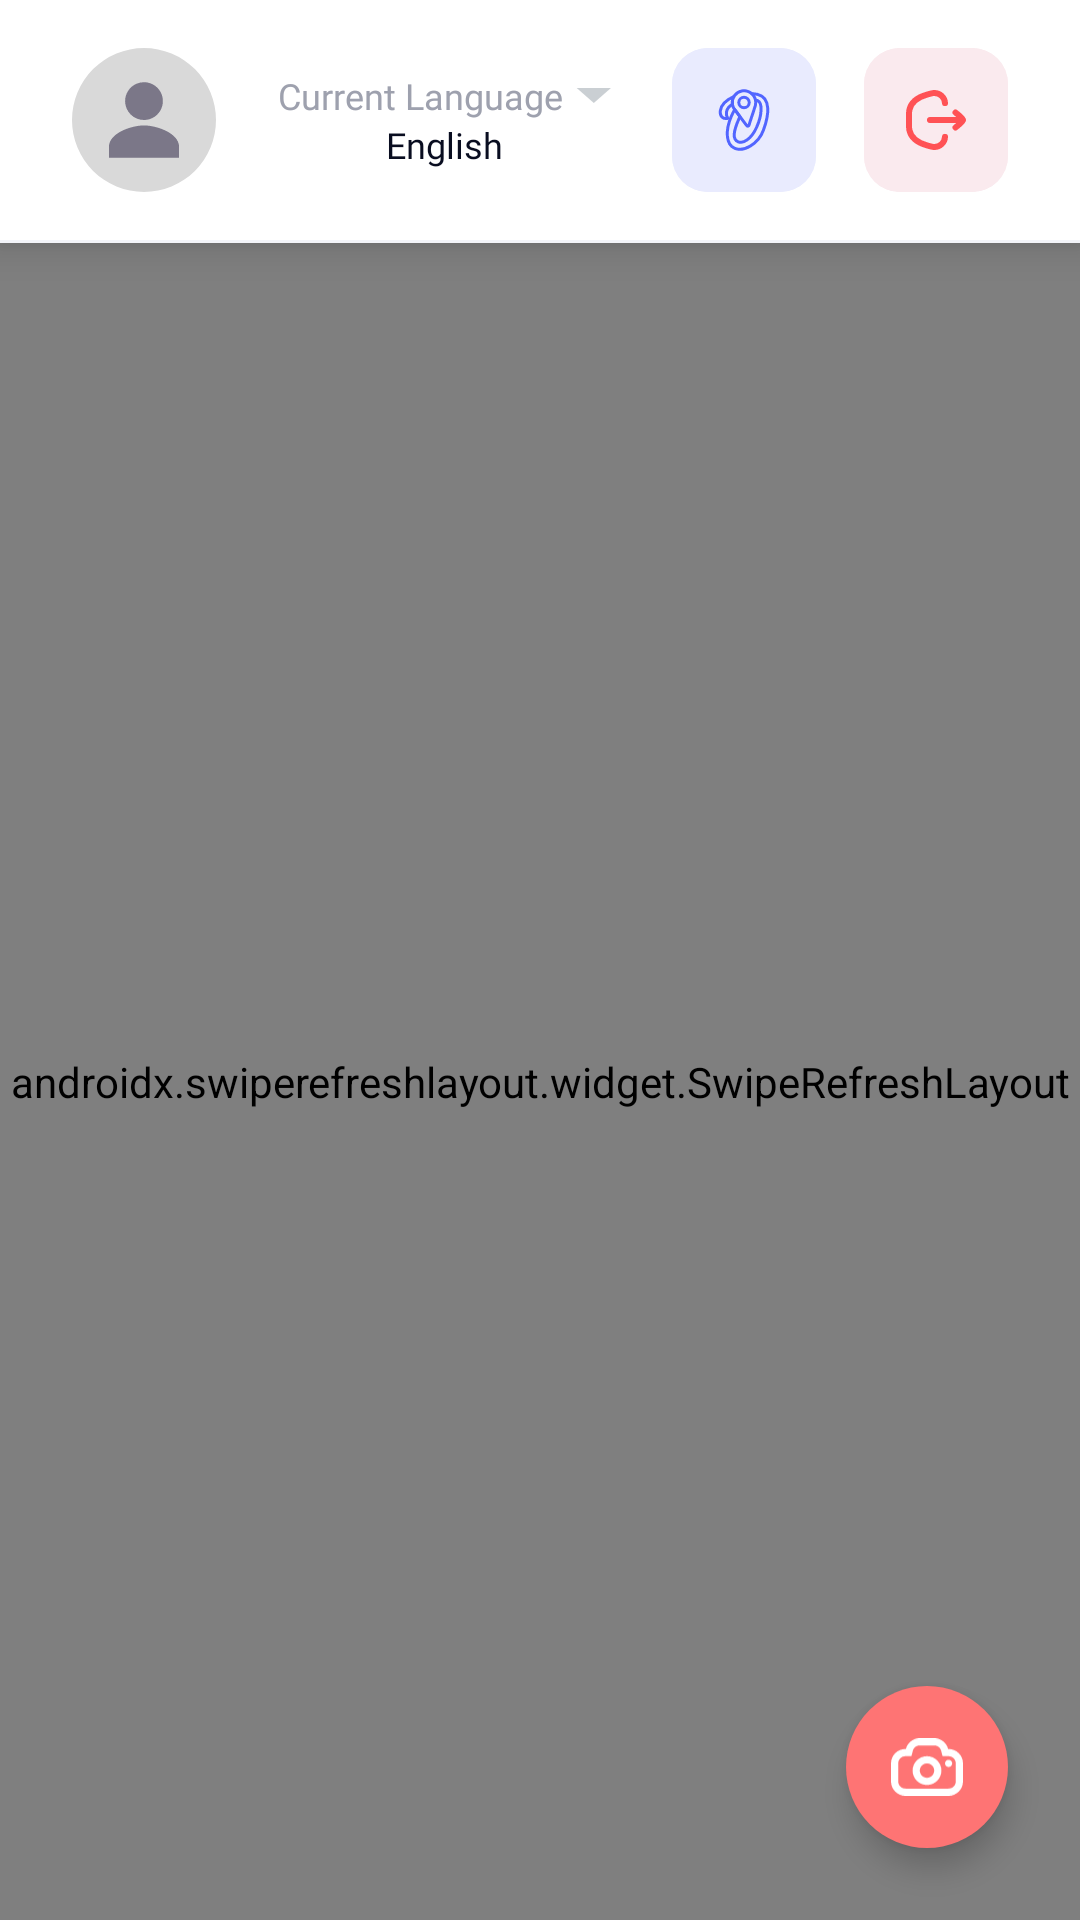

Icons on this 1080x1920 Android screen, each with its box as detection(x1, y1, x2, y2):
camera: detection(846, 1686, 1008, 1848)
profile: detection(72, 48, 216, 192)
